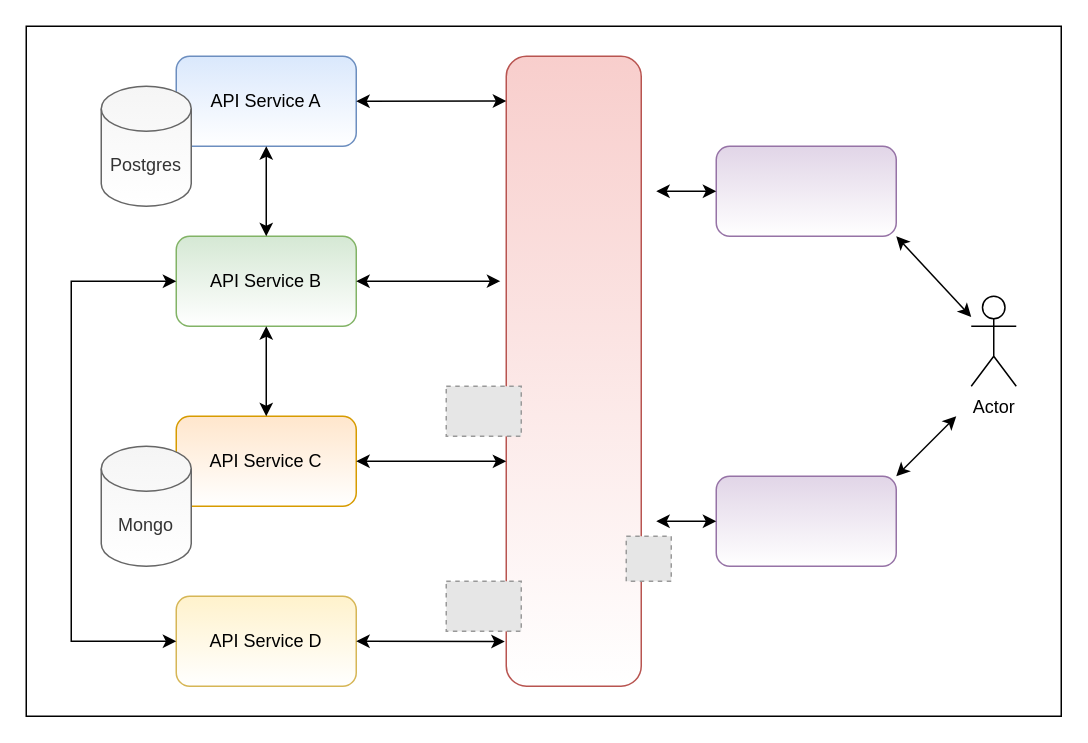
This 1088x743 diagram has some shape labels left out. Grey dashed boxes stand in for pictures. The centre of each missing label's shape, as x and y in pixels:
Android App: point (805, 520)
Gateway: point (573, 370)
Web Client: point (805, 190)
